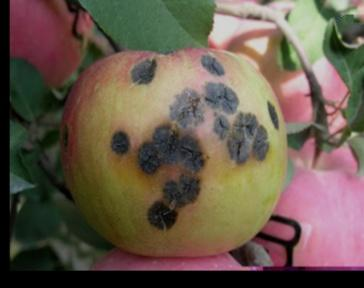rotten apple: (57, 42, 287, 257)
